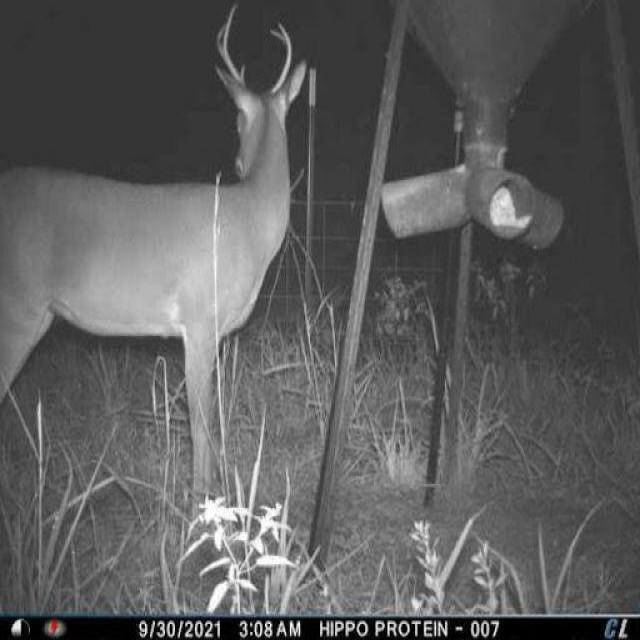deer: (0, 0, 311, 549)
